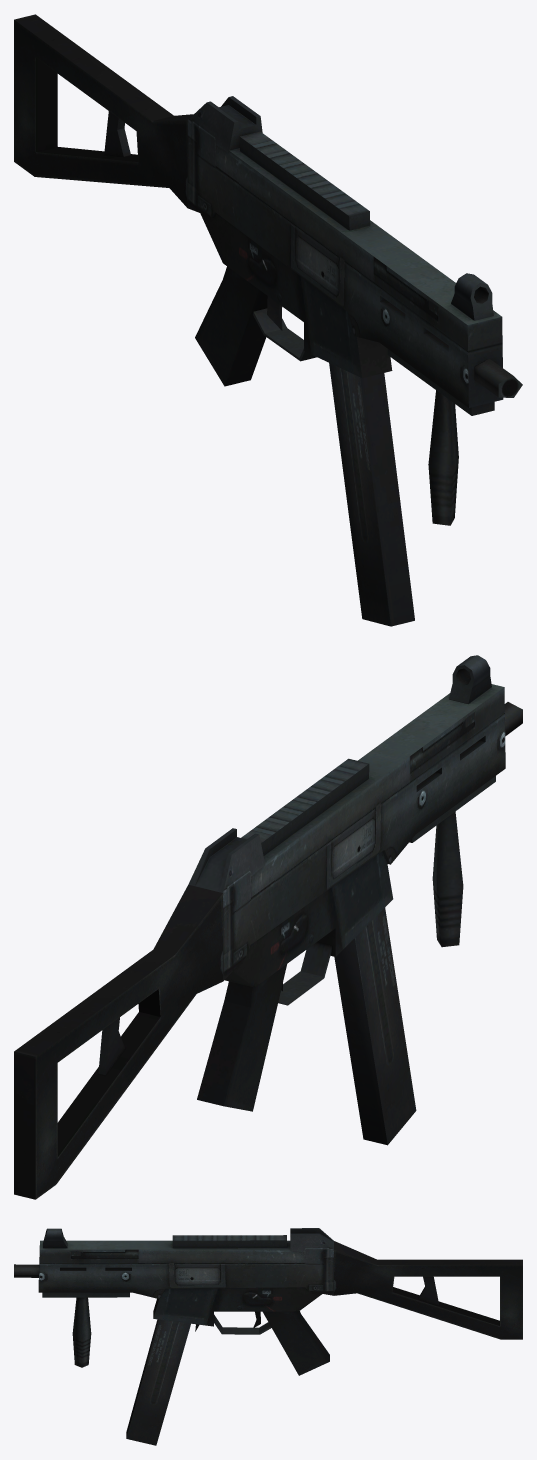
Rendered from ump45.FBX.
3 views of the same model, one above another, from view 1: azimuth 30°, elevation 25°; view 2: azimuth 150°, elevation 25°; view 3: azimuth 270°, elevation 25° (orthographic). The views are drawn at different scales.
Visible parts, largest first — view 1: SMDImporter.Mesh.w_smg_ump45; view 2: SMDImporter.Mesh.w_smg_ump45; view 3: SMDImporter.Mesh.w_smg_ump45.
Boxes of the visible parts, left/top/right/bottom form: SMDImporter.Mesh.w_smg_ump45: left=14, top=14, right=522, bottom=626; SMDImporter.Mesh.w_smg_ump45: left=14, top=655, right=522, bottom=1199; SMDImporter.Mesh.w_smg_ump45: left=14, top=1228, right=522, bottom=1445.
Size of the model in its own units: 3.35 by 37.05 by 79.72.
